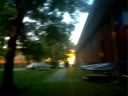window: (25, 10, 35, 42), (40, 10, 48, 39), (61, 12, 67, 32), (92, 18, 96, 40), (85, 17, 88, 40)
